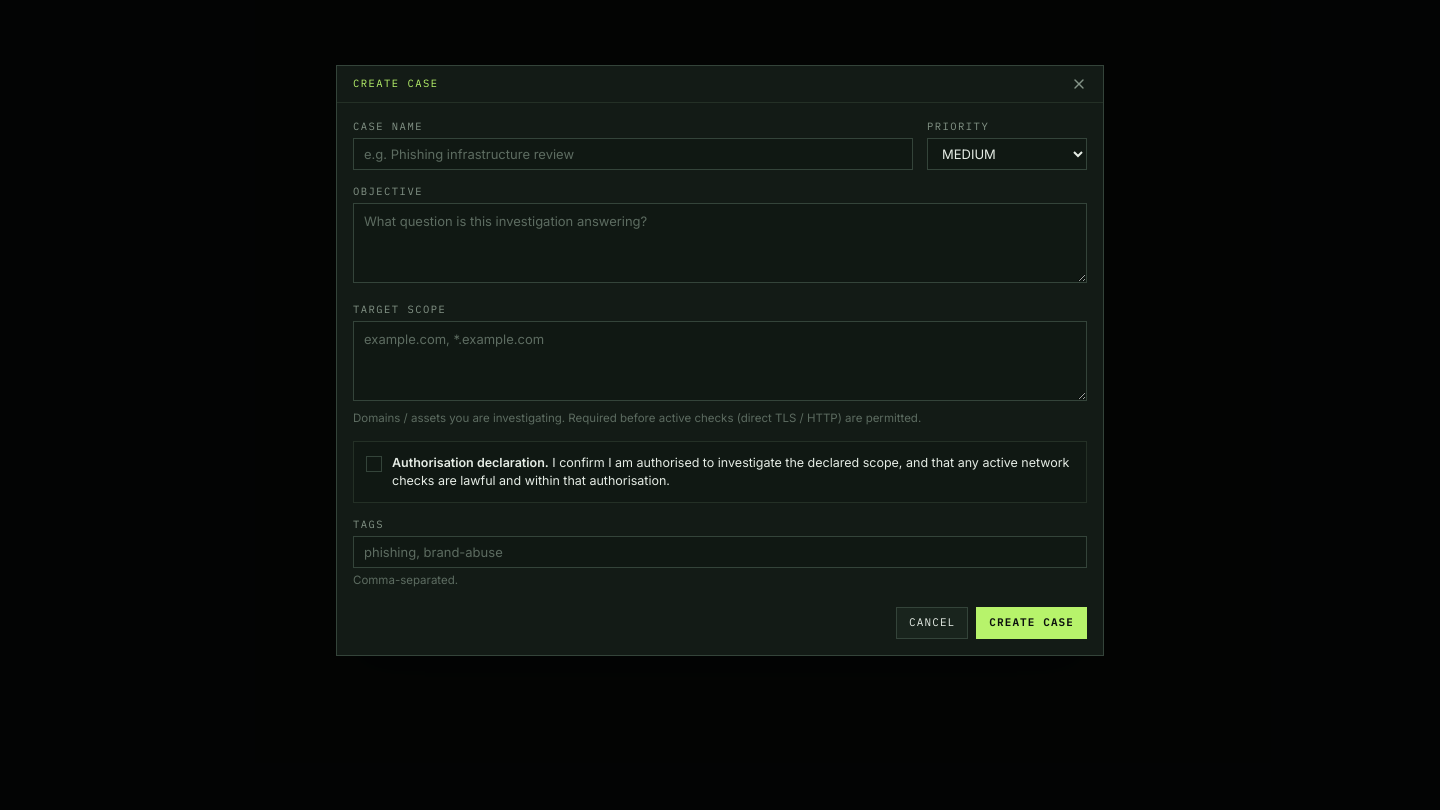
Test: Case form › surfaces backend validation errors instead of swallowing them
In the field labelled "Case name": [633, 154] box [353,138,913,170], type "abc"
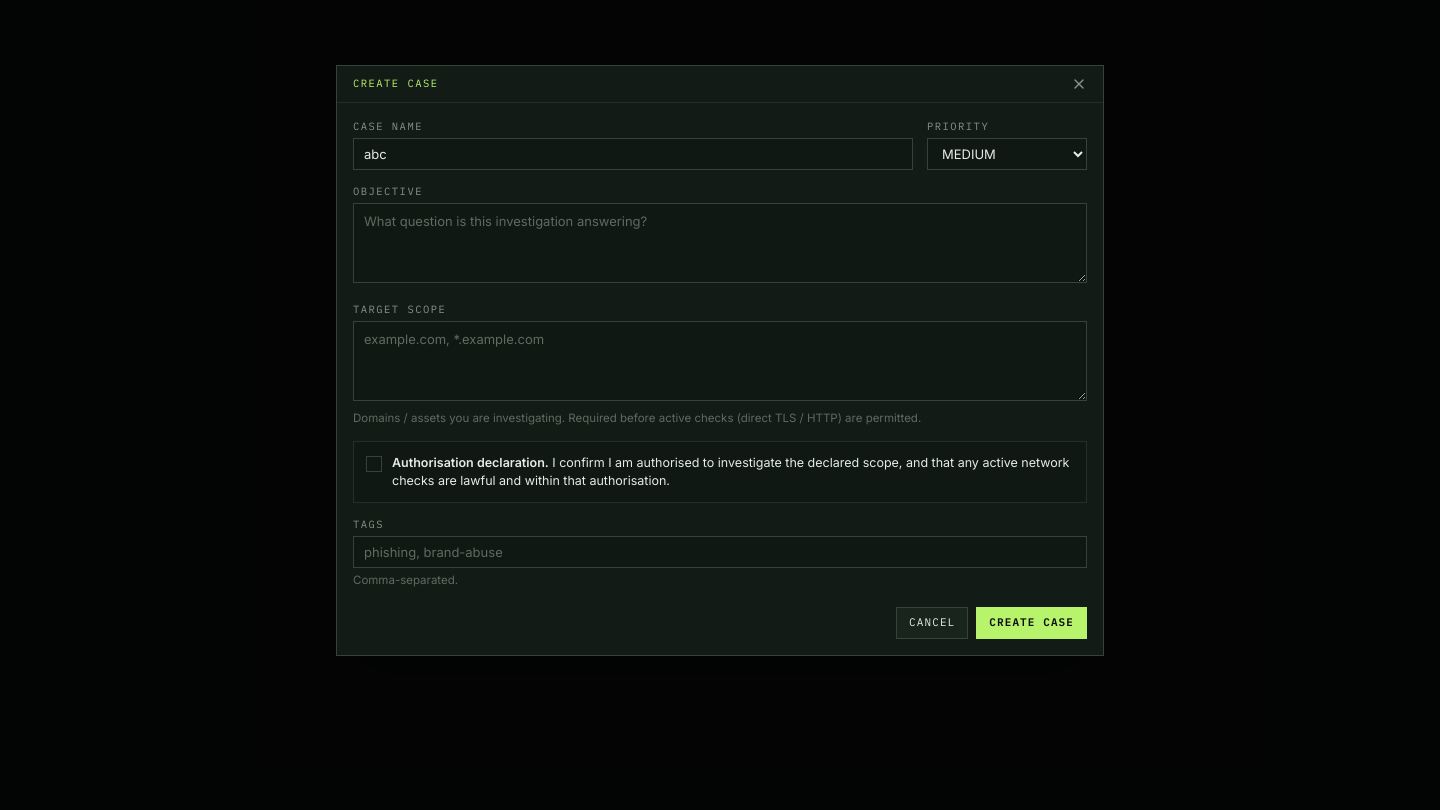
Click the button "Create case": [1032, 623] box [976,607,1087,639]
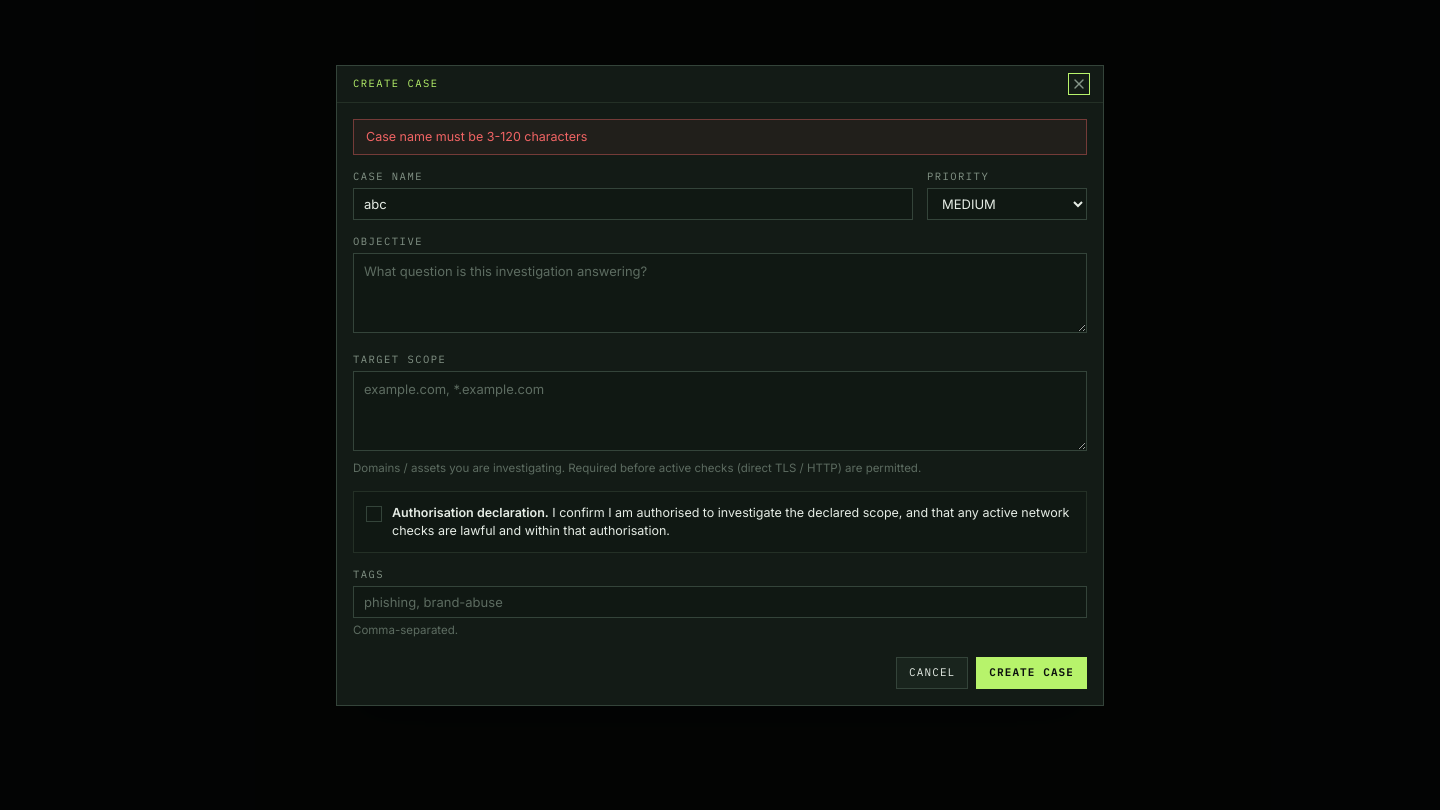
Now the text "Case name must be 3-120 characters" is shown, box [366,128,587,146]
